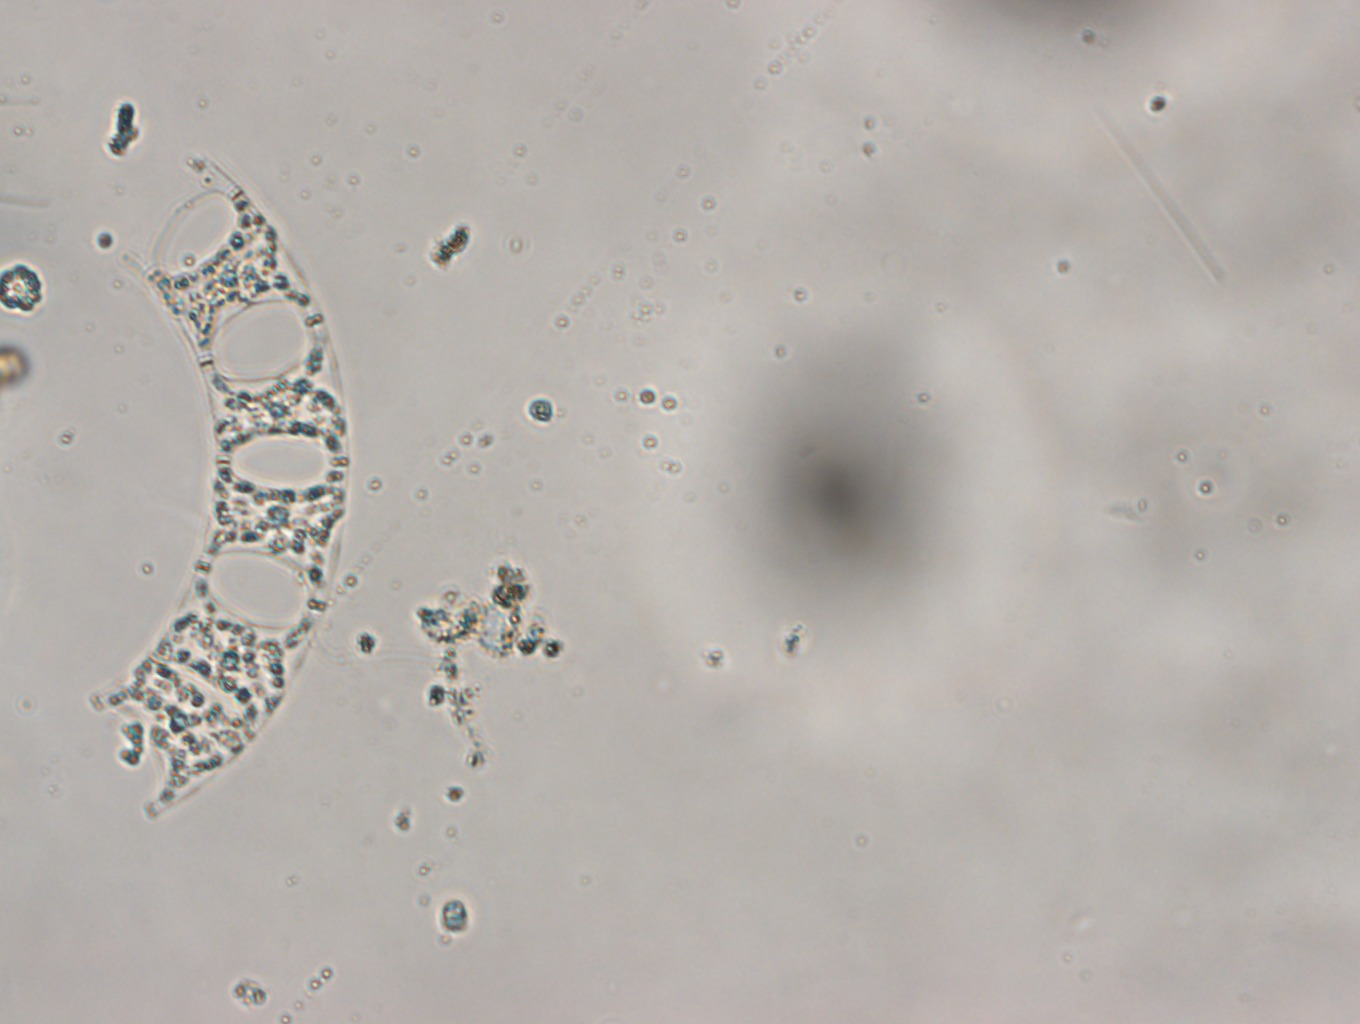eucampia: (78, 148, 354, 840)
